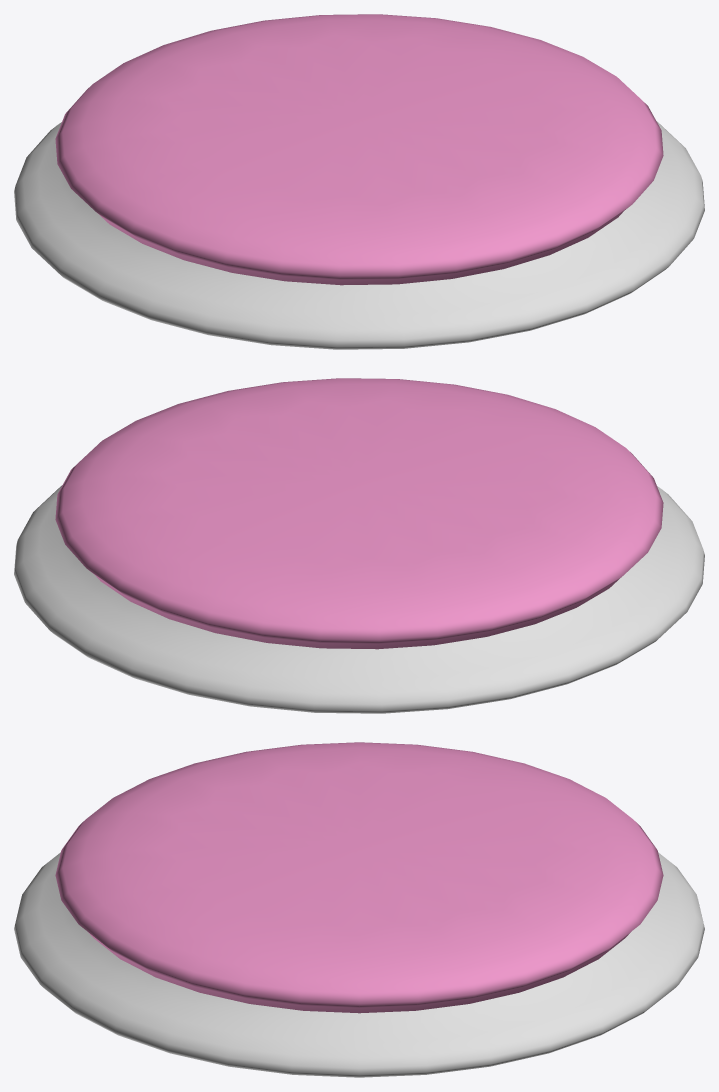
File: SugarCookie.fbx
3 renders of one model, top to bottom at view 1: azimuth 30°, elevation 25°; view 2: azimuth 150°, elevation 25°; view 3: azimuth 270°, elevation 25°, orthographic.
Visible parts, largest first — view 1: SugarCookie; view 2: SugarCookie; view 3: SugarCookie.
Boxes of the visible parts, x1,y1,x2,y2 form: SugarCookie: (14,14,704,349); SugarCookie: (14,378,704,713); SugarCookie: (14,742,704,1077).
Bounding box in the file's own units: 148 × 22.07 × 148.
